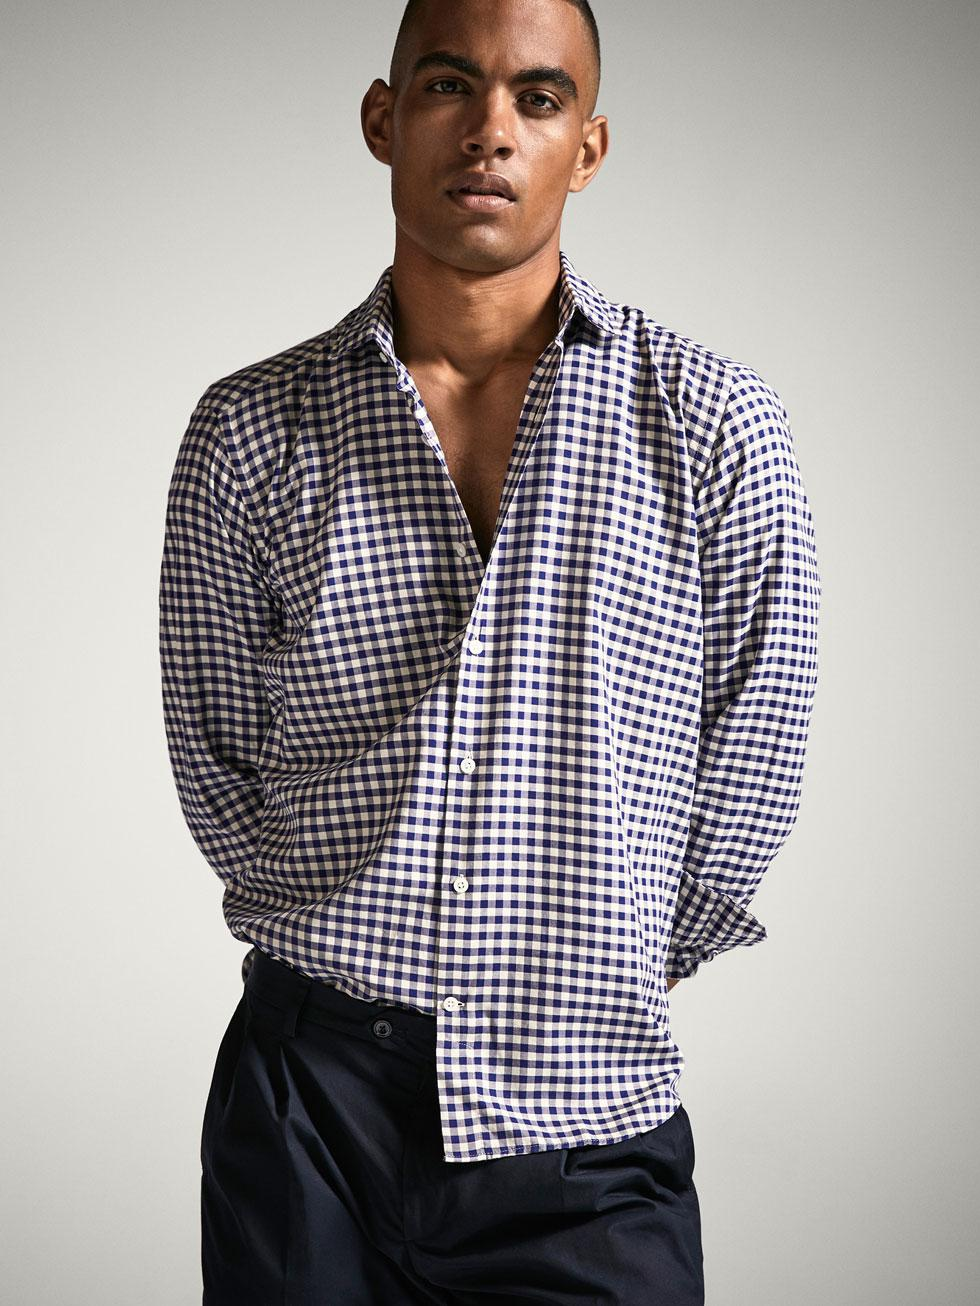teeshirt: (145, 249, 819, 1171)
